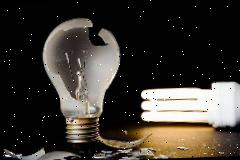lightbulb: (40, 15, 152, 151), (138, 80, 240, 130)
